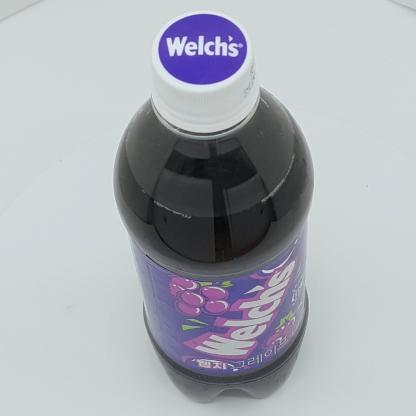-------500ml: (113, 10, 315, 404)
